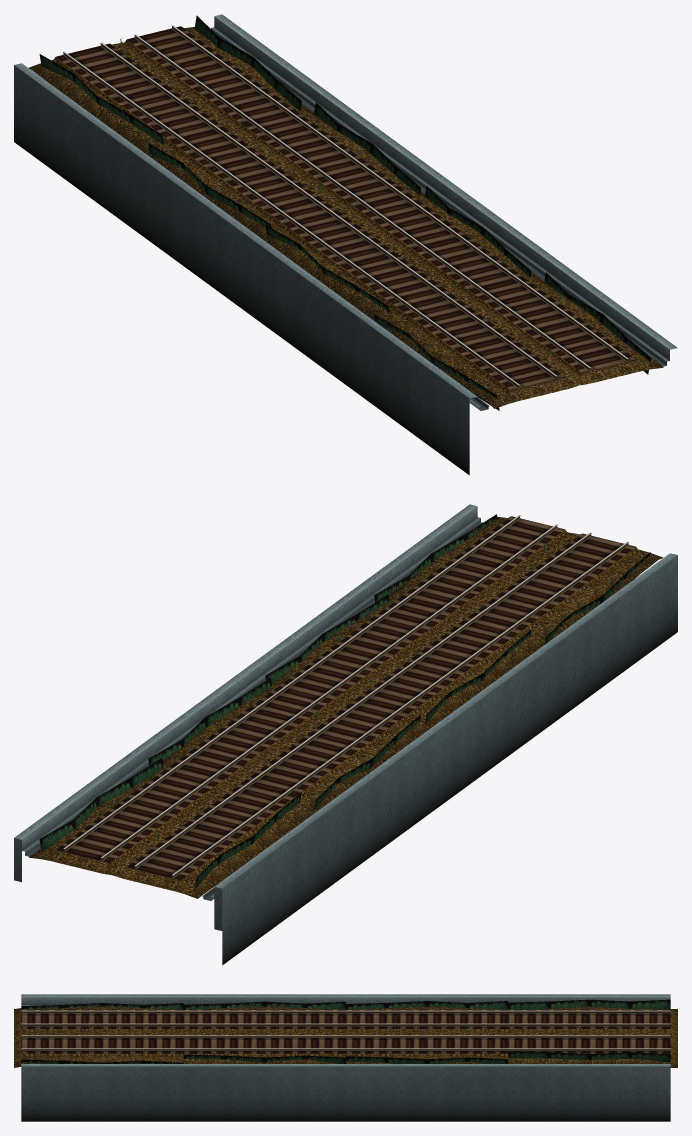
Rendered from K_JARI_2RAIL_GLASS.glb.
3 renders of one model, top to bottom at view 1: azimuth 30°, elevation 25°; view 2: azimuth 150°, elevation 25°; view 3: azimuth 270°, elevation 25°, orthographic. The views are drawn at different scales.
Parts seen in each view (by area): view 1: rail_small; view 2: rail_small; view 3: rail_small.
Part boxes in pixels (x1,y1,x2,y2): rail_small: (14,14,677,475); rail_small: (14,504,677,965); rail_small: (14,994,677,1121).
Size of the model in its own units: 26.37 by 10.1 by 102.
Materials: 13 (4 with a texture image).
